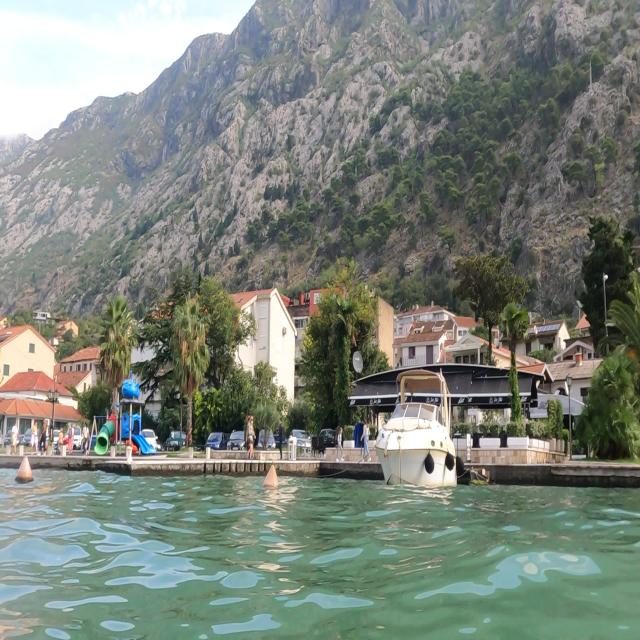boat: (372, 366, 460, 491)
buoy: (10, 450, 39, 491), (260, 456, 284, 494)
